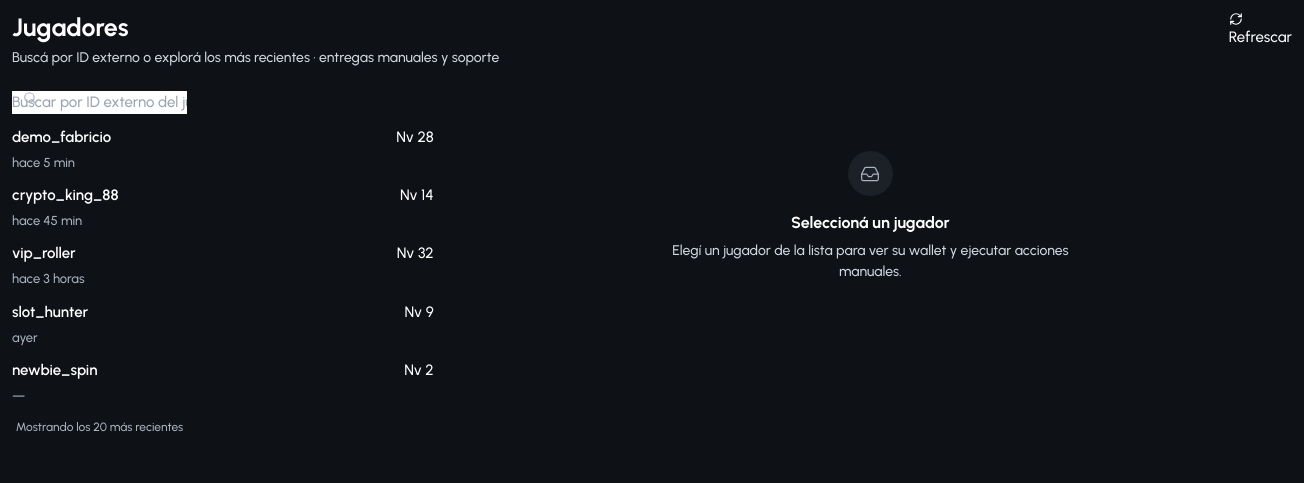
Test case: PlayersPage › muestra botones de dar XP y monedas bajo wallet
Click the text "demo_fabricio" at (62, 137), box [12,126,111,149]
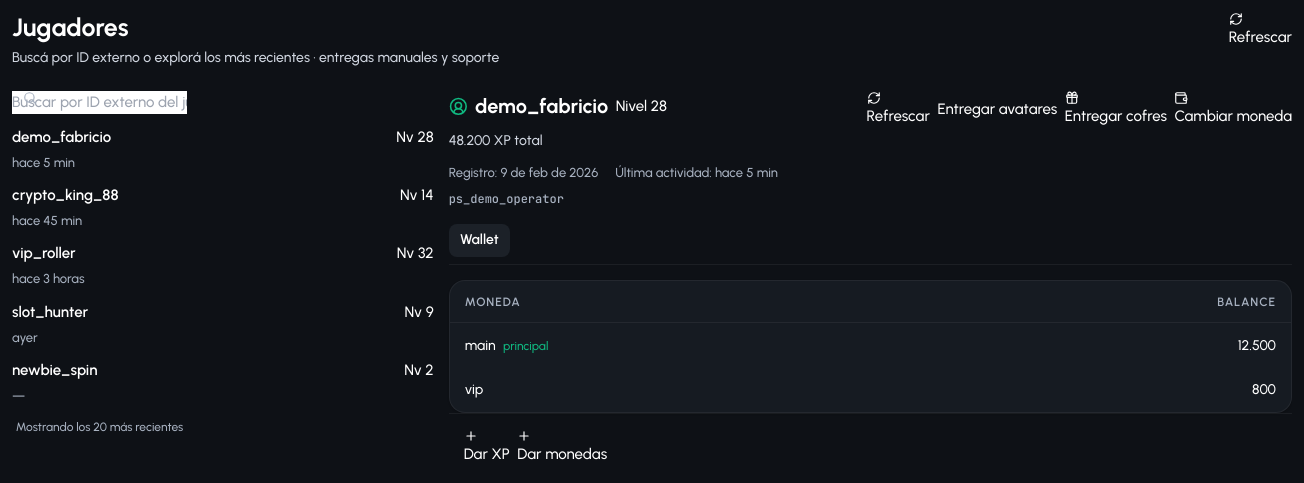
expect the button "Dar XP" is shown: met, box [464,429,510,466]
expect the button "Dar monedas" is shown: met, box [517,429,607,466]
